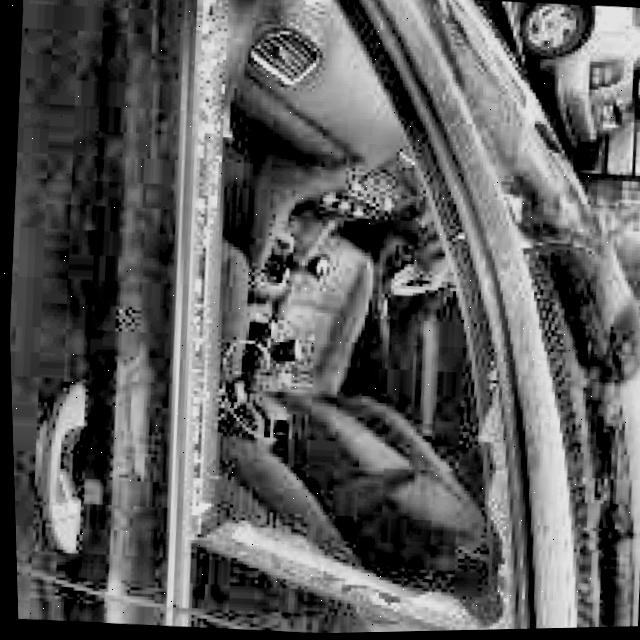glass_shatter: (192, 286, 499, 594), (175, 0, 390, 297)
